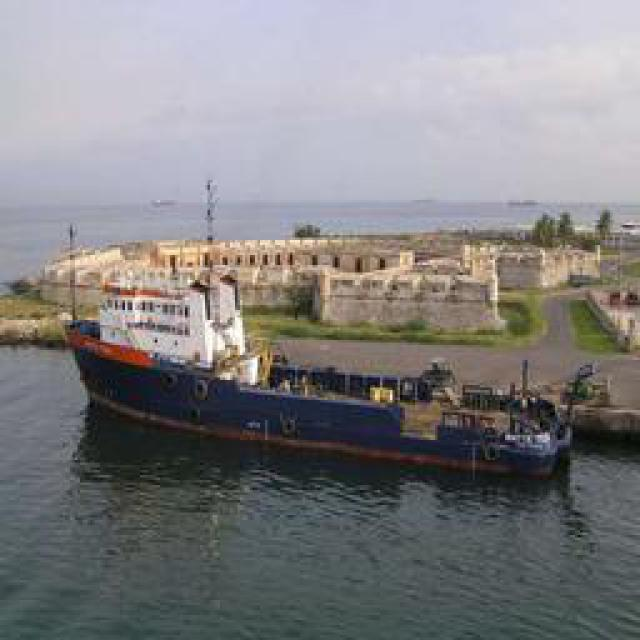Ship: (69, 264, 569, 474)
